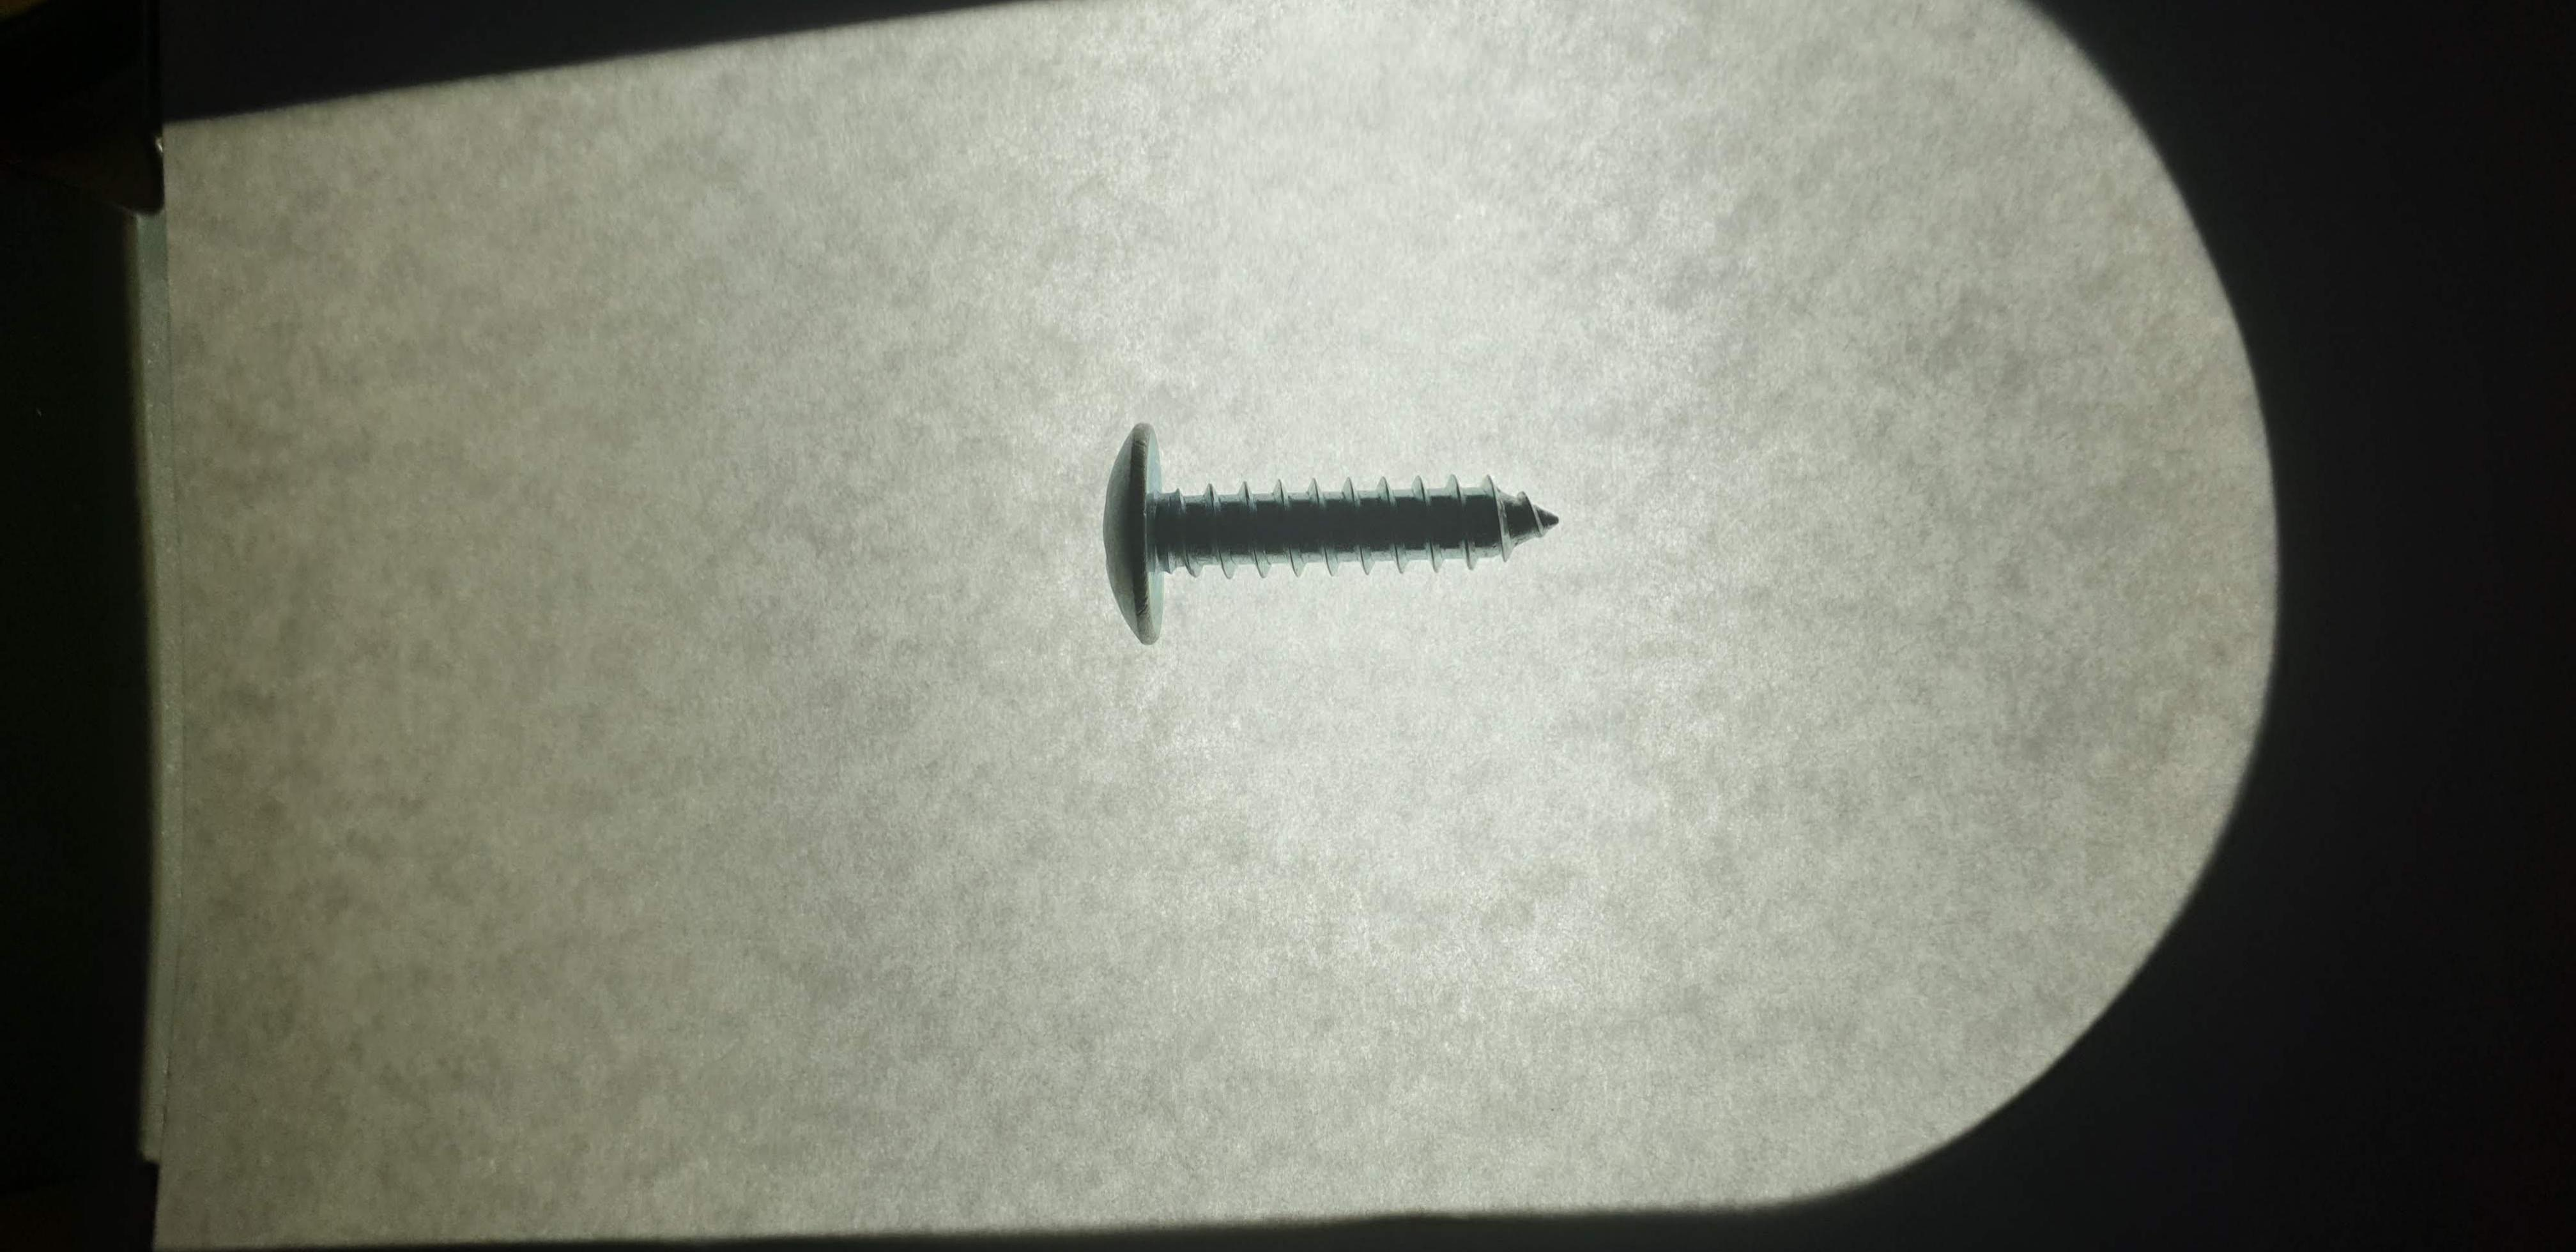S002: (1048, 389, 1612, 684)
